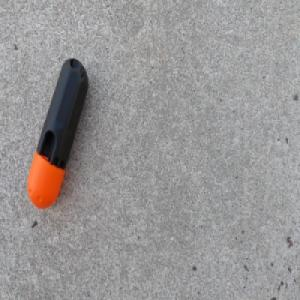PlasticPart: (25, 56, 89, 210)
